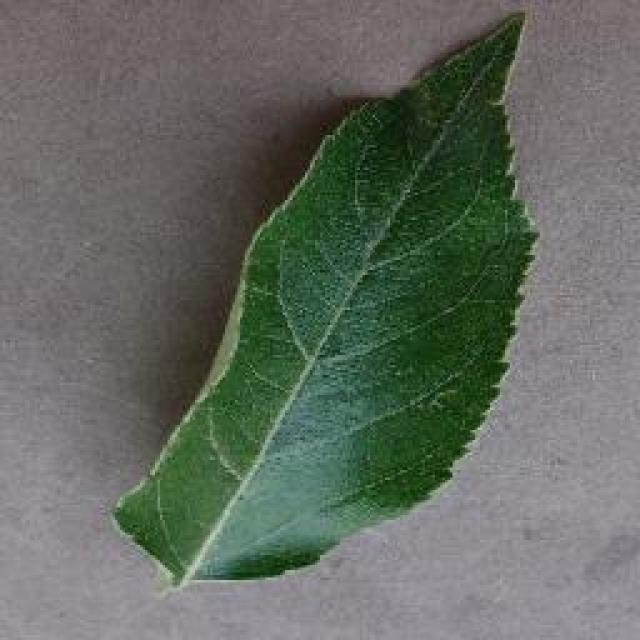apple healthy: (110, 8, 540, 592)
